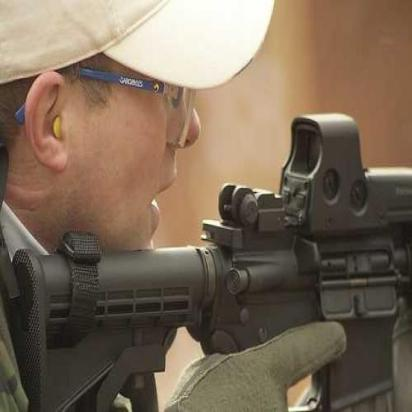Gun: (11, 109, 412, 412)
